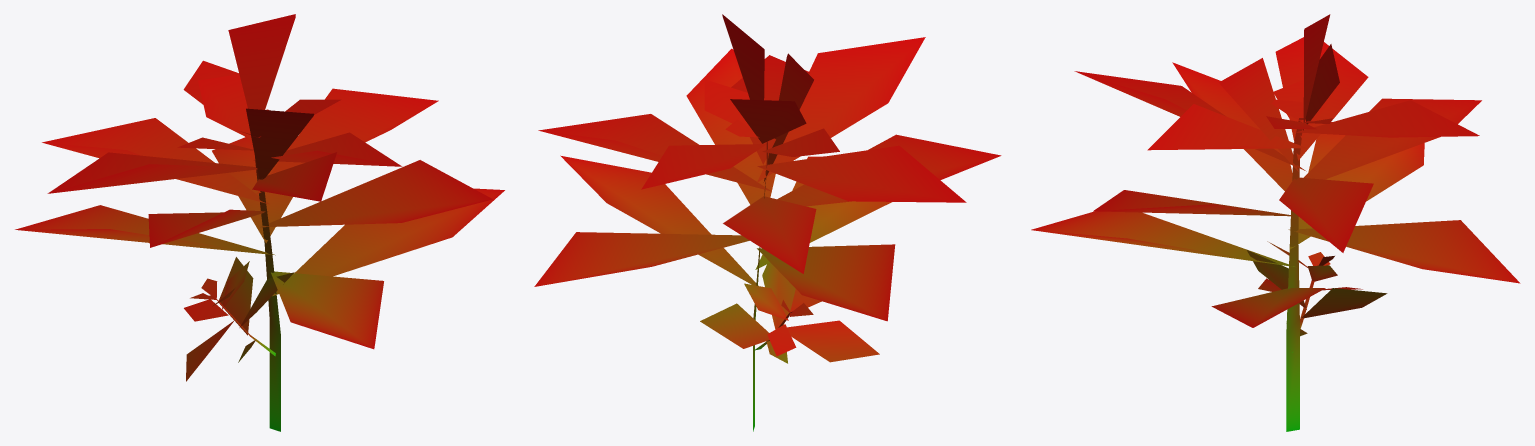
File: Small Balsam_LOD5_Var3_xefmcgrqx.fbx
3 renders of one model, left to right at view 1: azimuth 30°, elevation 25°; view 2: azimuth 150°, elevation 25°; view 3: azimuth 270°, elevation 25°, orthographic. The views are drawn at different scales.
Visible parts, largest first — view 1: _qk1f_Var3_LOD5; view 2: _qk1f_Var3_LOD5; view 3: _qk1f_Var3_LOD5.
Part boxes in pixels (x1,y1,x2,y2): _qk1f_Var3_LOD5: [15, 14, 504, 431]; _qk1f_Var3_LOD5: [534, 14, 1001, 431]; _qk1f_Var3_LOD5: [1031, 14, 1520, 431].
Size of the model in its own units: 50.2 by 45.35 by 48.57.
